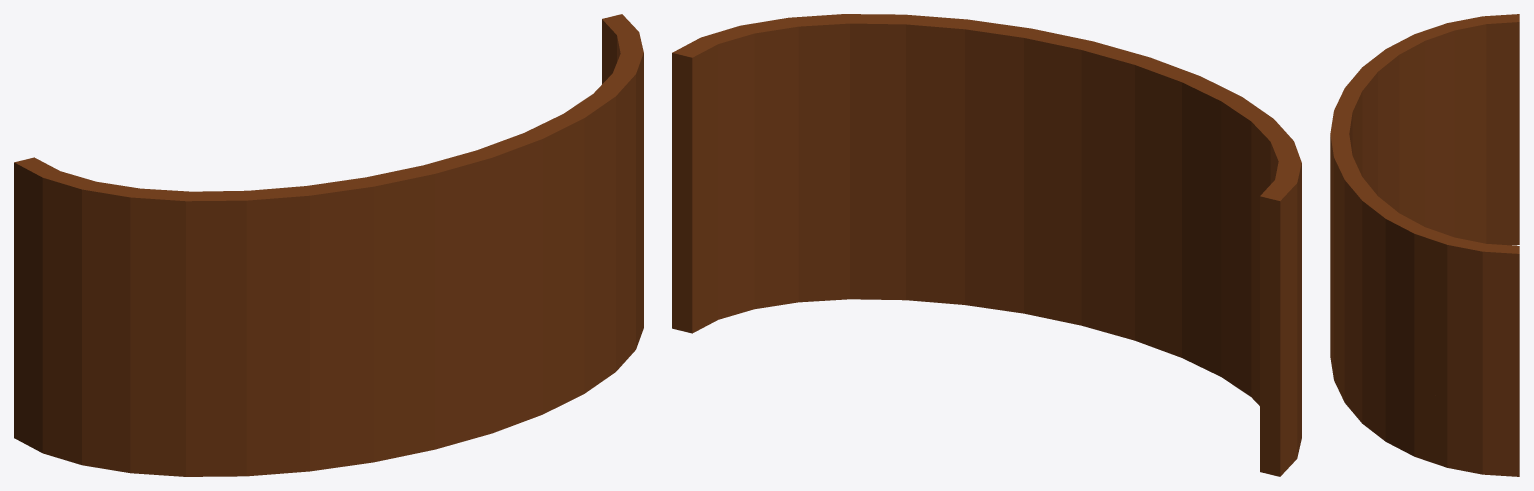
The model's file is MIDDLE_STERN.obj.
3 renders of one model, left to right at view 1: azimuth 30°, elevation 25°; view 2: azimuth 150°, elevation 25°; view 3: azimuth 270°, elevation 25°, orthographic. The views are drawn at different scales.
Size of the model in its own units: 6 by 2.6 by 2.
